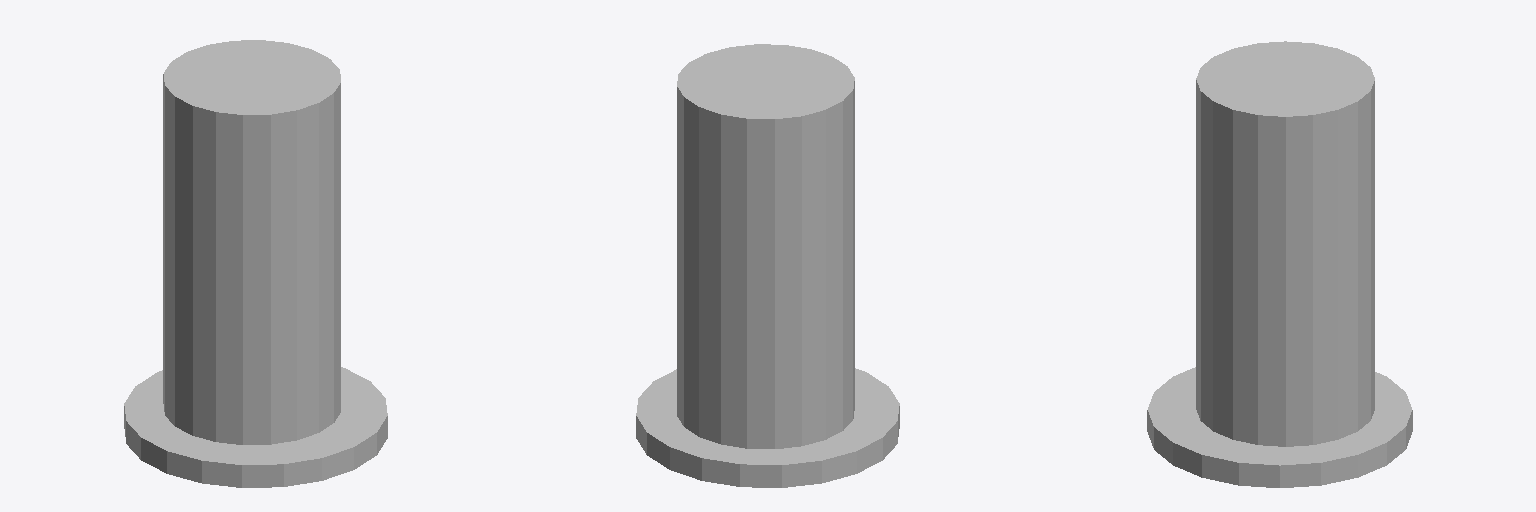
The model's file is baseSilla2.obj.
3 views of the same model, side by side, from view 1: azimuth 30°, elevation 25°; view 2: azimuth 150°, elevation 25°; view 3: azimuth 270°, elevation 25° (orthographic).
Parts seen in each view (by area): view 1: tablerocontrol:polySurface8 sillacabina:polySurface27, sillacabina:polySurface27 tablerocontrol:polySurface9; view 2: tablerocontrol:polySurface8 sillacabina:polySurface27, sillacabina:polySurface27 tablerocontrol:polySurface9; view 3: tablerocontrol:polySurface8 sillacabina:polySurface27, sillacabina:polySurface27 tablerocontrol:polySurface9.
Boxes of the visible parts, x1,y1,x2,y2 form: tablerocontrol:polySurface8 sillacabina:polySurface27: [163, 40, 340, 444]; sillacabina:polySurface27 tablerocontrol:polySurface9: [124, 367, 387, 487]; tablerocontrol:polySurface8 sillacabina:polySurface27: [677, 44, 854, 448]; sillacabina:polySurface27 tablerocontrol:polySurface9: [636, 368, 899, 487]; tablerocontrol:polySurface8 sillacabina:polySurface27: [1196, 41, 1374, 446]; sillacabina:polySurface27 tablerocontrol:polySurface9: [1147, 367, 1412, 487].
Size of the model in its own units: 0.0601 by 0.0883 by 0.0601.